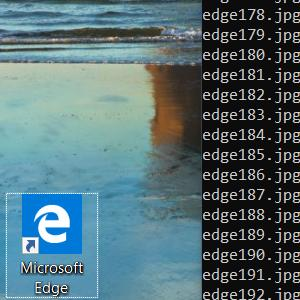edge: (21, 194, 82, 255)
